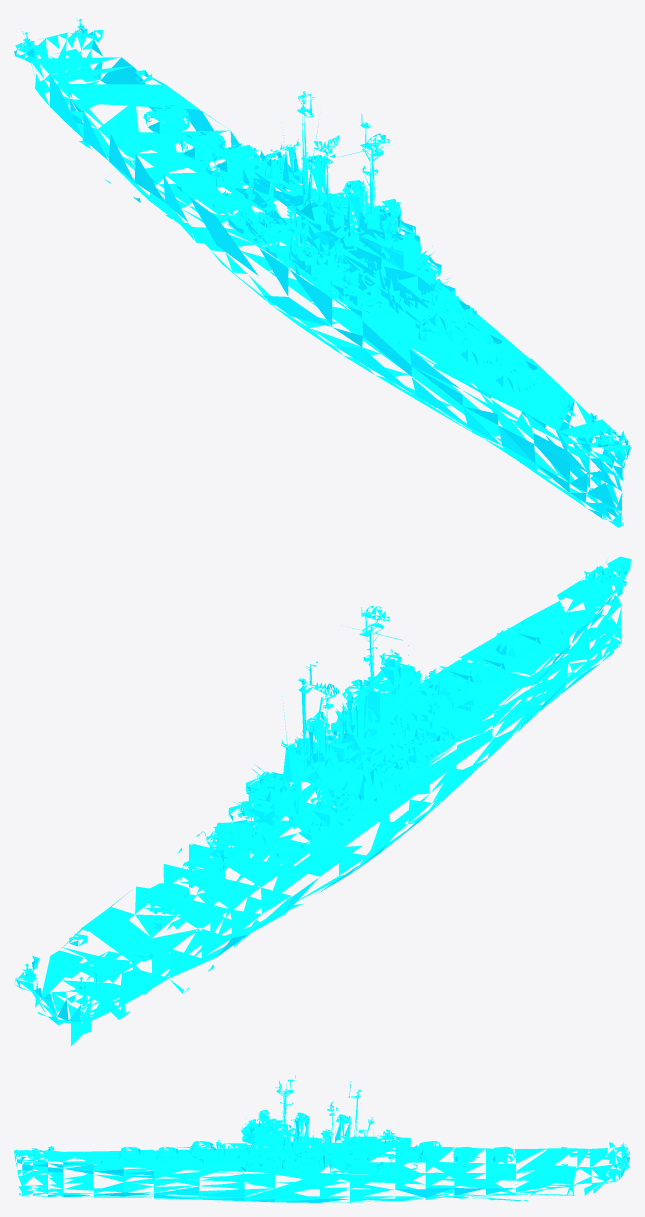
The model's file is PASC210.glb.
3 renders of one model, top to bottom at view 1: azimuth 30°, elevation 25°; view 2: azimuth 150°, elevation 25°; view 3: azimuth 270°, elevation 25°, orthographic. The views are drawn at different scales.
Parts seen in each view (by area): view 1: hull_mid, hull_stern, hull_bow, main_battery, aa_mount, superstructure; view 2: hull_mid, hull_stern, hull_bow, main_battery, aa_mount, superstructure; view 3: hull_mid, hull_stern, hull_bow, main_battery, aa_mount, superstructure.
Boxes of the visible parts, <box> form: hull_mid: <box>189,91,529,437</box>; hull_stern: <box>14,28,286,251</box>; hull_bow: <box>459,358,630,527</box>; main_battery: <box>143,105,541,391</box>; aa_mount: <box>20,18,616,444</box>; superstructure: <box>24,19,443,295</box>; hull_mid: <box>189,607,531,922</box>; hull_stern: <box>14,843,291,1045</box>; hull_bow: <box>459,556,630,736</box>; main_battery: <box>144,627,540,914</box>; aa_mount: <box>21,559,616,994</box>; superstructure: <box>25,605,443,982</box>; hull_mid: <box>153,1075,442,1202</box>; hull_stern: <box>425,1142,629,1201</box>; hull_bow: <box>14,1146,153,1197</box>; main_battery: <box>115,1141,516,1162</box>; aa_mount: <box>32,1131,626,1170</box>; superstructure: <box>216,1080,624,1159</box>.
Bounding box in the file's own units: 1.45 × 3 × 13.8.
